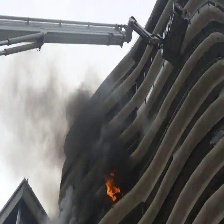fire: (100, 177, 128, 201)
smoke: (6, 70, 145, 174)
